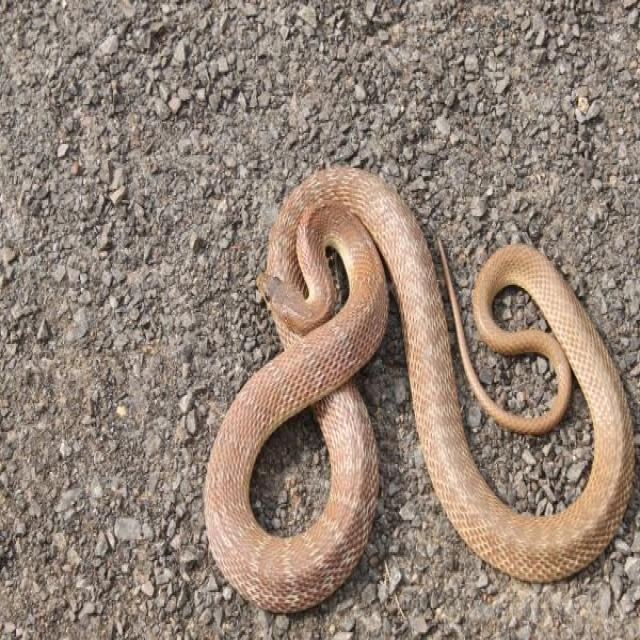Snake: (197, 156, 640, 618)
